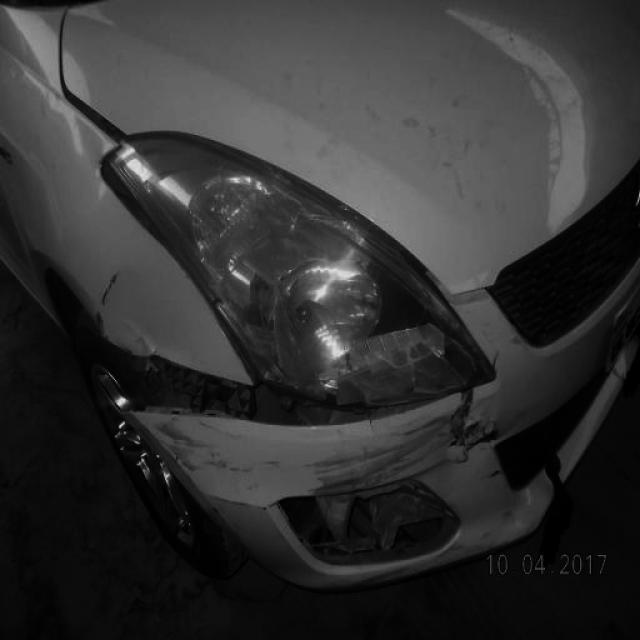car damage: (188, 135, 498, 379), (104, 338, 459, 428), (279, 481, 464, 566), (301, 415, 476, 499), (154, 426, 287, 474), (453, 388, 501, 457)
